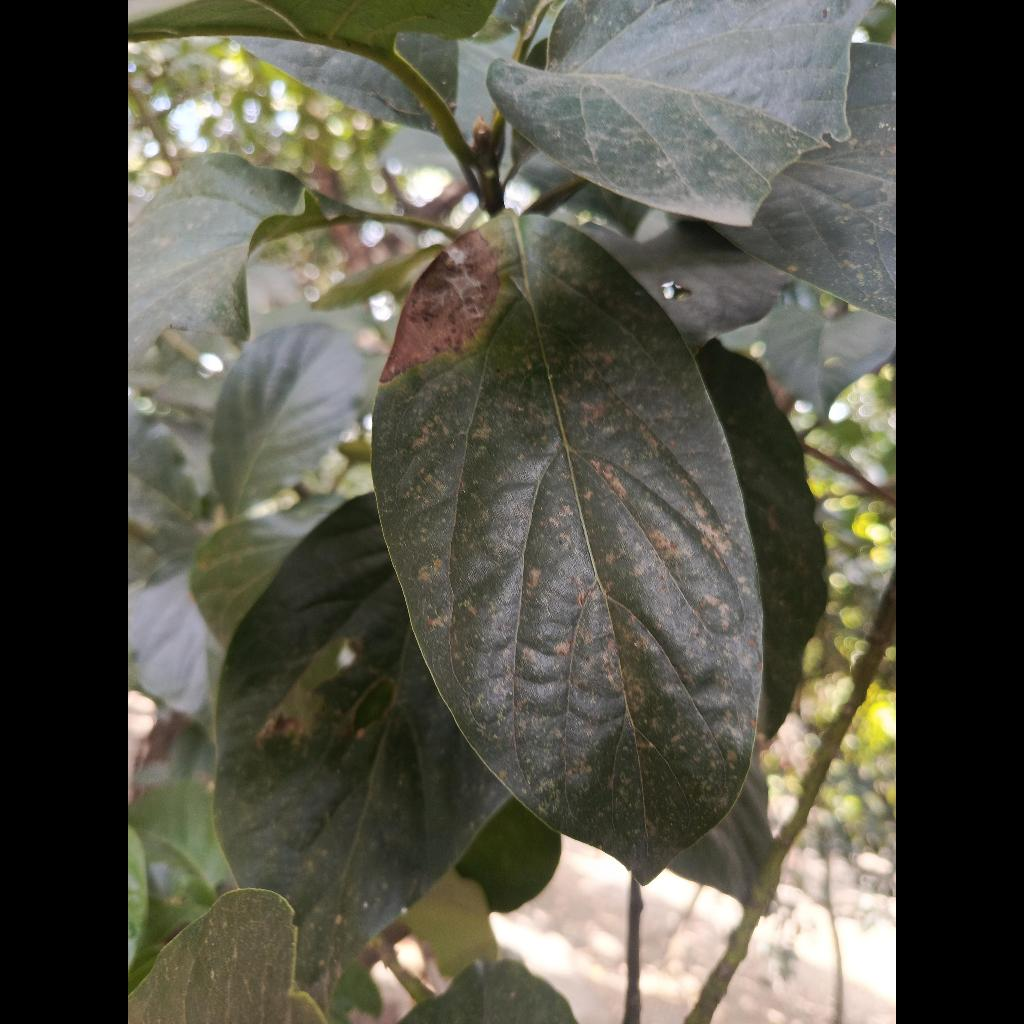antracnosis_hoja: (372, 212, 762, 881)
